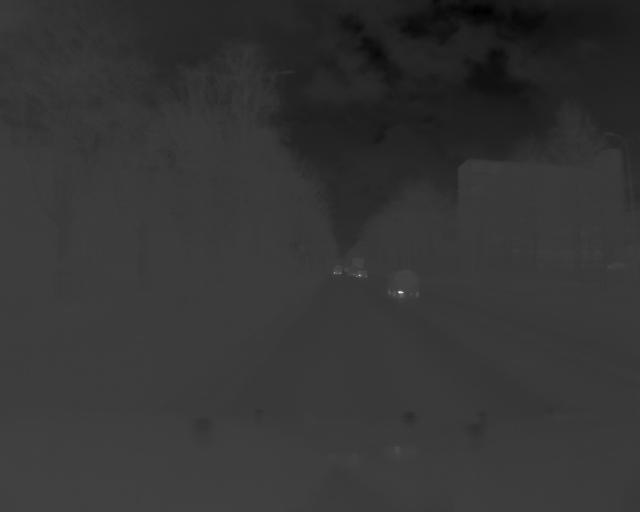car: (387, 266, 422, 300), (603, 258, 628, 272), (331, 262, 344, 276), (355, 267, 367, 280)
